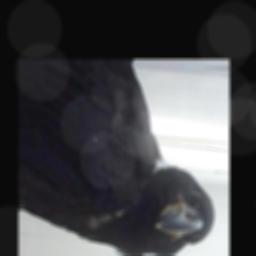Crow: (20, 60, 222, 256)
